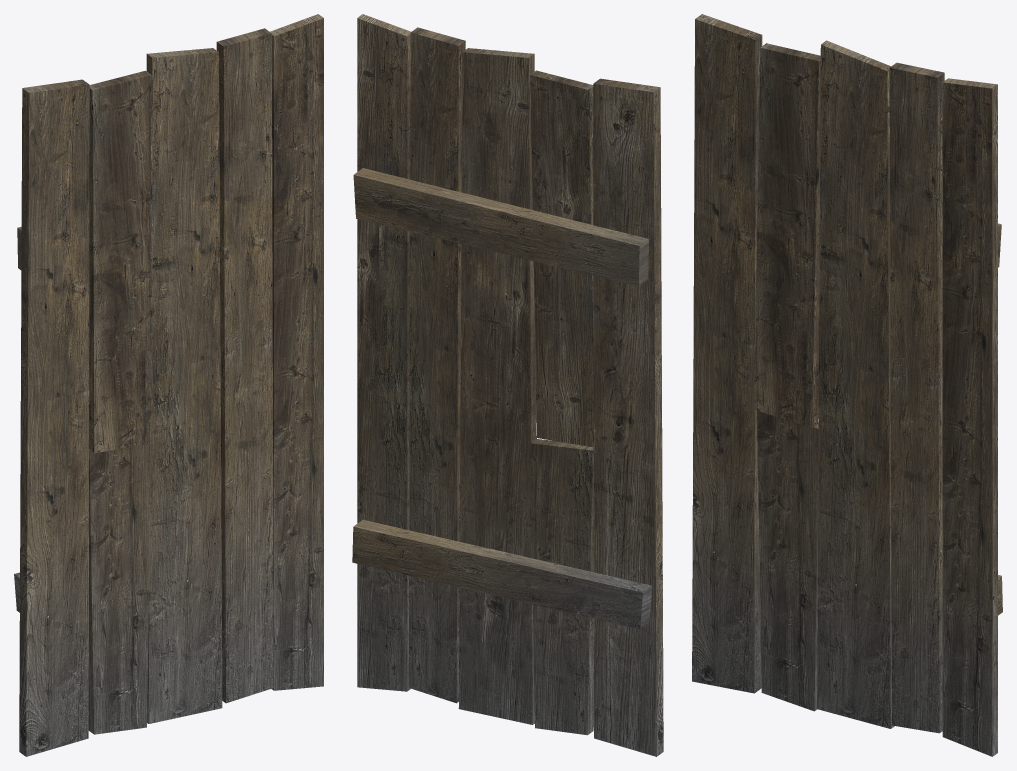
The model's file is House_02_Doors4_LOD1.fbx.
3 views of the same model, side by side, from view 1: azimuth 30°, elevation 25°; view 2: azimuth 150°, elevation 25°; view 3: azimuth 330°, elevation 25° (orthographic).
Parts seen in each view (by area): view 1: polySurface1102; view 2: polySurface1102; view 3: polySurface1102.
Boxes of the visible parts, bbox=[...] form: polySurface1102: bbox=[14, 14, 323, 756]; polySurface1102: bbox=[352, 14, 663, 756]; polySurface1102: bbox=[692, 14, 1002, 756].
Bounding box in the file's own units: 0.9133 × 1.96 × 0.1032.
